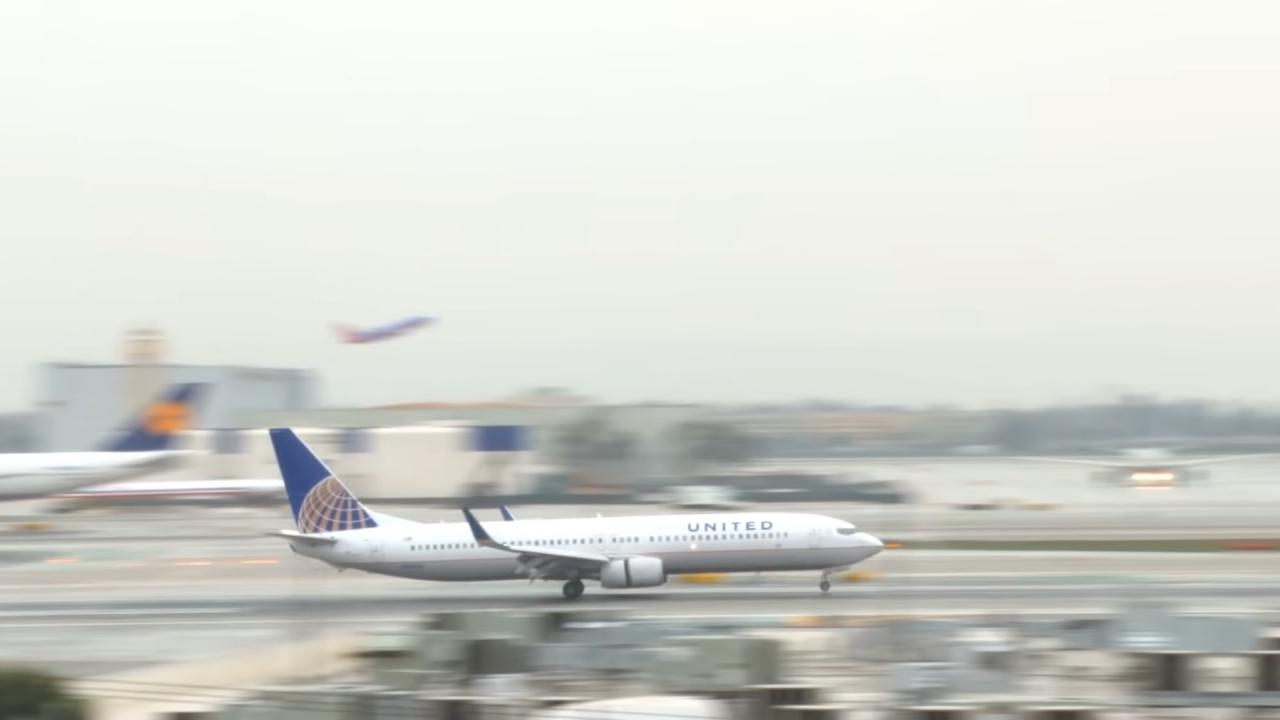Airplane: (248, 410, 901, 616)
